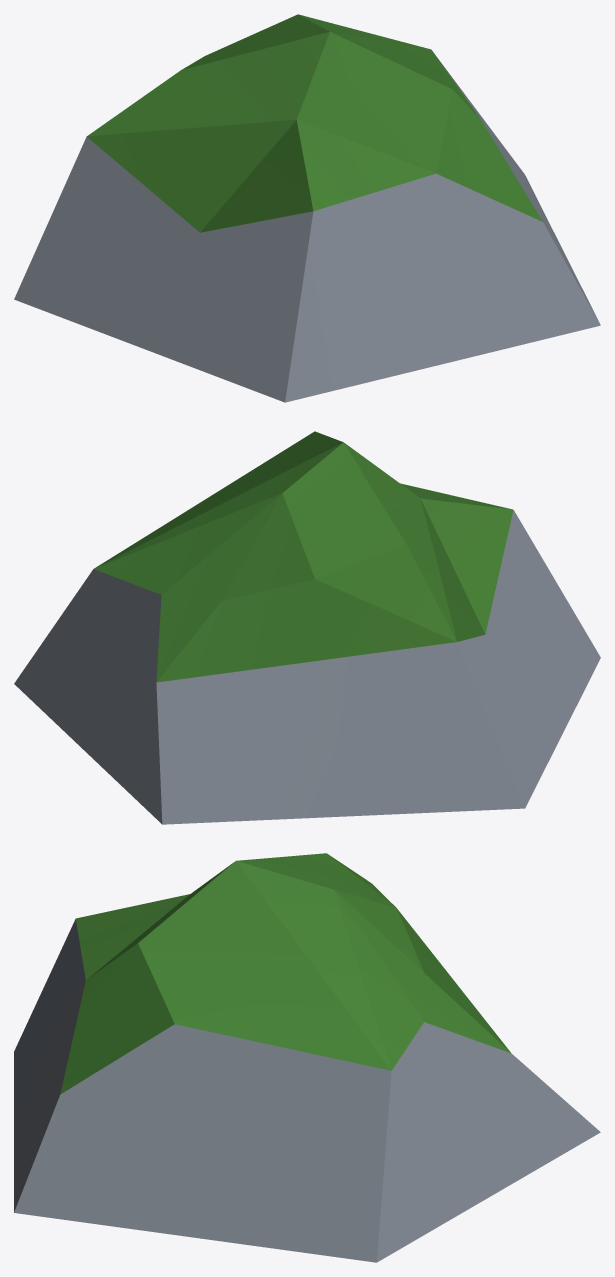
Rendered from stone_small_3.fbx.
The picture shows the model from 3 angles, top to bottom: view 1: azimuth 30°, elevation 25°; view 2: azimuth 150°, elevation 25°; view 3: azimuth 270°, elevation 25°; orthographic projection. The views are drawn at different scales.
Parts seen in each view (by area): view 1: stone_small_3; view 2: stone_small_3; view 3: stone_small_3.
Part boxes in pixels (x1,y1,x2,y2): stone_small_3: (14, 14, 600, 402); stone_small_3: (14, 431, 600, 824); stone_small_3: (14, 853, 600, 1262).
Size of the model in its own units: 0.877 by 0.4203 by 0.8341.
